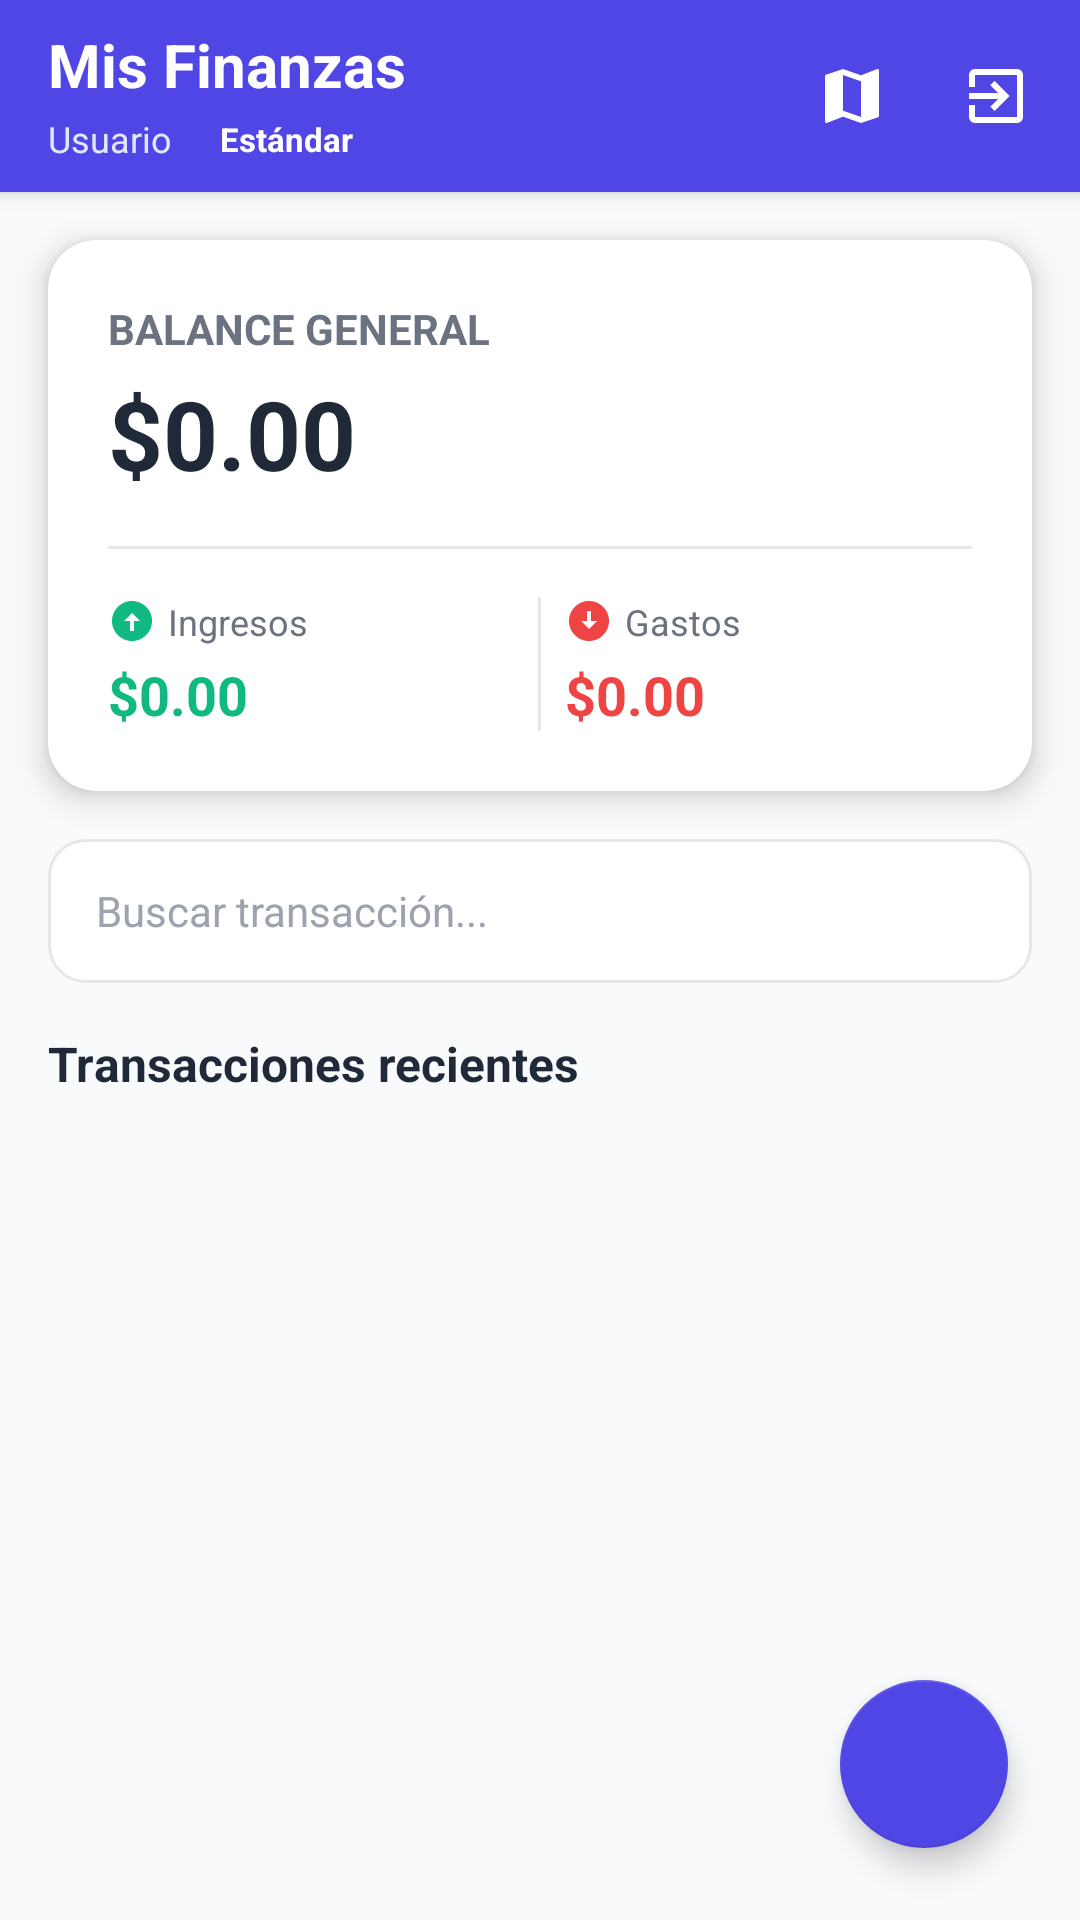

Icon click points for this 1080w x 1920h phone screenshot, format point (x, y):
Ver mapa: point (852, 96)
